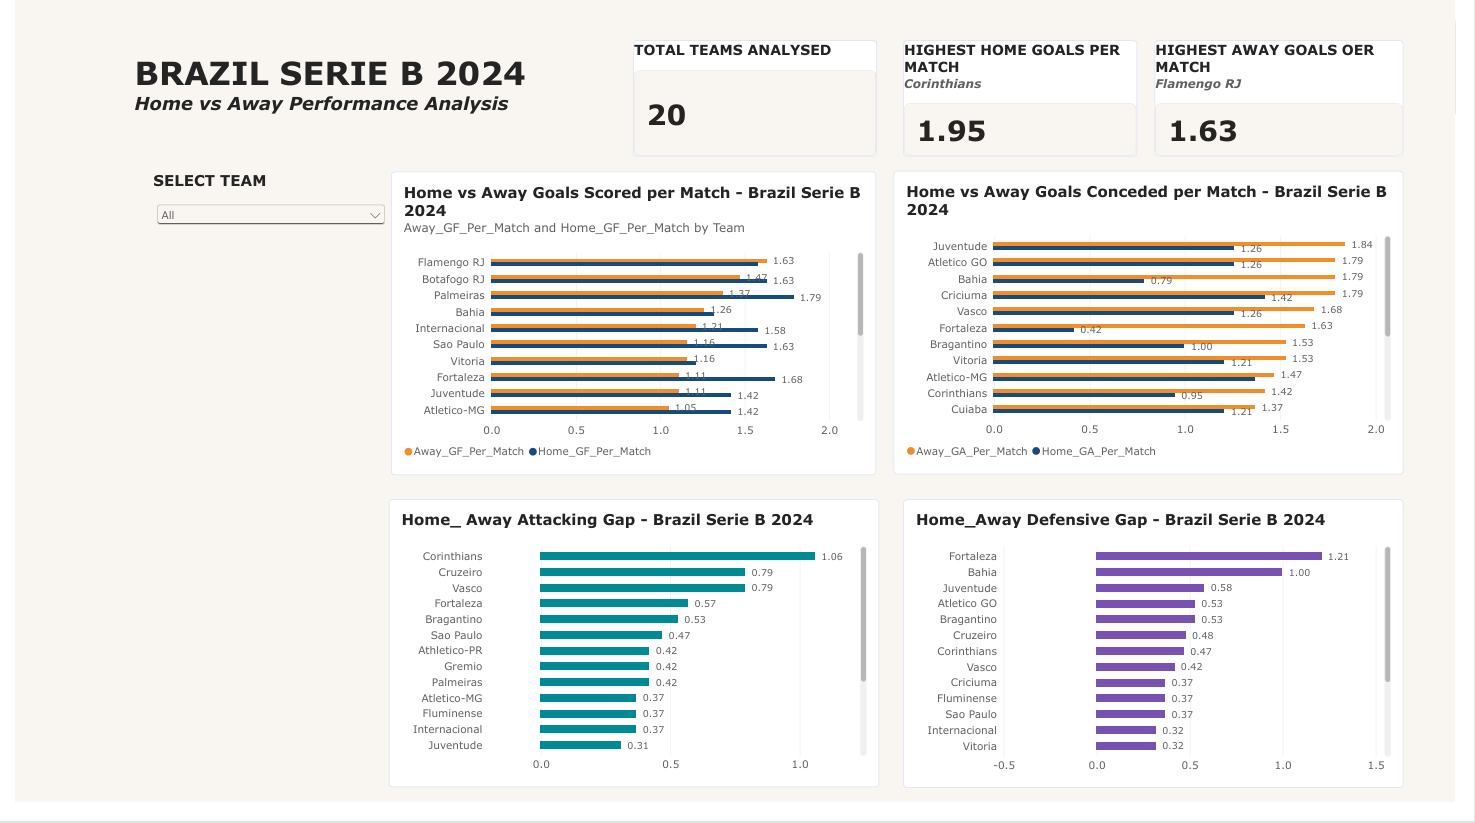

Layout of this report page (visuals, bound fields, positions):
{"tool":"powerbi","page":{"name":"Page 1","canvas":[1920,1080],"ordinal":0},"visuals":[{"type":"clusteredBarChart","title":"Home vs Away Goals Scored per Match - Brazil Serie B 2024","fields":{"Category":["brazil_serieb_db v_team_venue_2024.Team"],"Y":["Sum(brazil_serieb_db v_team_venue_2024.Away_GF_Per_Match)","Sum(brazil_serieb_db v_team_venue_2024.Home_GF_Per_Match)"]},"box":[500,237.5,647.2,405.6],"z":0},{"type":"clusteredBarChart","title":"Home vs Away Goals Conceded per Match - Brazil Serie B 2024","fields":{"Category":["brazil_serieb_db v_team_venue_2024.Team"],"Y":["Sum(brazil_serieb_db v_team_venue_2024.Away_GA_Per_Match)","Sum(brazil_serieb_db v_team_venue_2024.Home_GA_Per_Match)"]},"box":[1169.9,236.8,679.9,405.6],"z":1000},{"type":"cardVisual","title":"HIGHEST HOME GOALS PER MATCH","fields":{"Data":["Max(brazil_serieb_db v_team_venue_2024.Home_GF_Per_Match)"]},"box":[1182.5,62.5,312.5,155],"z":2000},{"type":"cardVisual","title":"HIGHEST AWAY GOALS OER MATCH","fields":{"Data":["Max(brazil_serieb_db v_team_venue_2024.Away_GF_Per_Match)"]},"box":[1517.5,62.5,332.5,155],"z":3000},{"type":"clusteredBarChart","title":"Home_ Away Attacking Gap - Brazil Serie B 2024","fields":{"Category":["brazil_serieb_db v_team_venue_2024.Team"],"Y":["Sum(brazil_serieb_db v_team_venue_2024.Home_Away_Attack_Gap)"]},"box":[497.2,675,654.1,384.5],"z":4000},{"type":"clusteredBarChart","title":"Home_Away Defensive Gap - Brazil Serie B 2024","fields":{"Category":["brazil_serieb_db v_team_venue_2024.Team"],"Y":["Sum(brazil_serieb_db v_team_venue_2024.Home_Away_Defense_Gap)"]},"box":[1182.5,675,667.5,385],"z":5000},{"type":"slicer","title":"SELECT TEAM","fields":{"Values":["brazil_serieb_db v_team_venue_2024.Team"]},"box":[182.9,236.8,313.9,230.6],"z":6000},{"type":"textbox","box":[157.5,80,530,157.5],"z":7000},{"type":"cardVisual","title":"TOTAL TEAMS ANALYSED","fields":{"Data":["Count(brazil_serieb_db v_team_venue_2024.Team)"]},"box":[822.5,62.5,325,155],"z":8000}]}

Visuals, with their boxes in screenshot pixels (x1, y1, x2, y2), scaled from the page's 1920x1080 canvas onto the 1475x823 screenshot:
"Home vs Away Goals Scored per Match - Brazil Serie B 2024" clusteredBarChart: [384,181,881,490]
"Home vs Away Goals Conceded per Match - Brazil Serie B 2024" clusteredBarChart: [899,180,1421,490]
"HIGHEST HOME GOALS PER MATCH" cardVisual: [908,48,1149,166]
"HIGHEST AWAY GOALS OER MATCH" cardVisual: [1166,48,1421,166]
"Home_ Away Attacking Gap - Brazil Serie B 2024" clusteredBarChart: [382,514,884,807]
"Home_Away Defensive Gap - Brazil Serie B 2024" clusteredBarChart: [908,514,1421,808]
"SELECT TEAM" slicer: [141,180,382,356]
textbox: [121,61,528,181]
"TOTAL TEAMS ANALYSED" cardVisual: [632,48,882,166]
